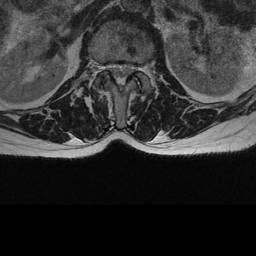CCS_normal: (116, 52, 124, 97)
LFS_stenosis: (133, 53, 142, 80)
LLS_normal: (124, 52, 133, 86)
RFS_stenosis: (99, 54, 108, 78)
RLS_normal: (107, 52, 116, 84)
